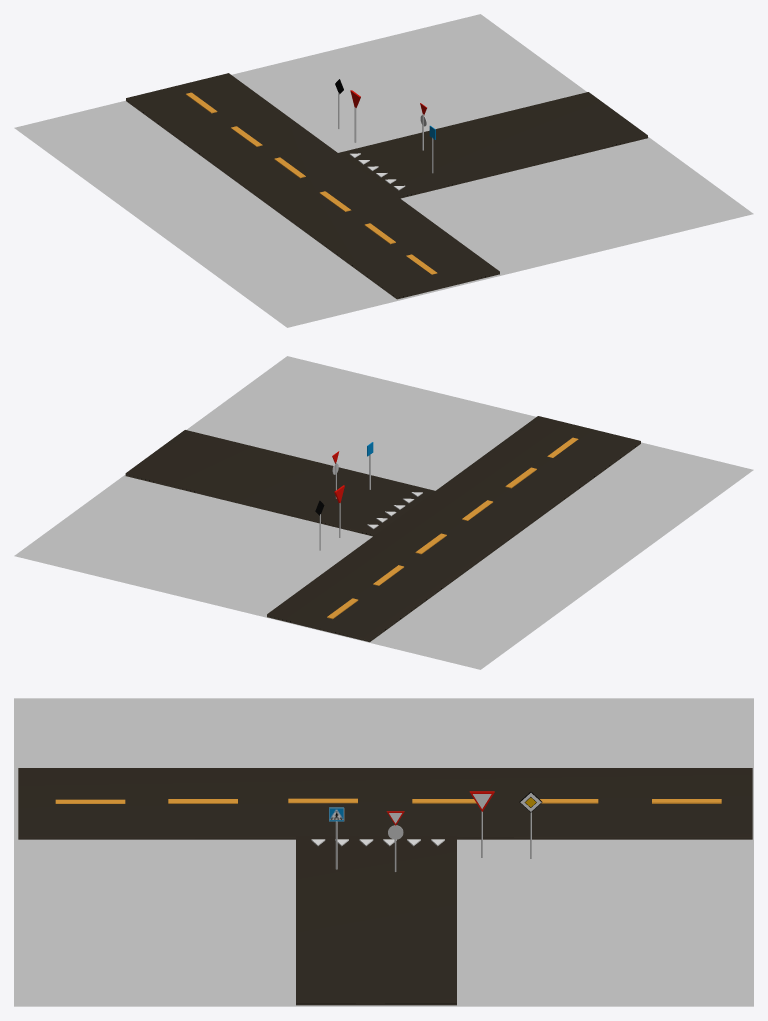
File: road2.fbx
The picture shows the model from 3 angles, top to bottom: view 1: azimuth 30°, elevation 25°; view 2: azimuth 150°, elevation 25°; view 3: azimuth 270°, elevation 25°; orthographic projection. The views are drawn at different scales.
Parts seen in each view (by area): view 1: Plane, Cube.005, Gulestriper; view 2: Plane, Cube.005, Gulestriper; view 3: Plane, Cube.005, Gulestriper.
Part boxes in pixels (box(x1,y1,x2,y2)): Plane: box(14, 14, 753, 327); Cube.005: box(126, 73, 647, 299); Gulestriper: box(185, 92, 437, 274); Plane: box(14, 356, 753, 669); Cube.005: box(125, 416, 640, 642); Gulestriper: box(327, 437, 578, 619); Plane: box(14, 698, 753, 1006); Cube.005: box(18, 768, 752, 1005); Gulestriper: box(55, 798, 721, 803).
Bounding box in the file's own units: 14370 × 1542 × 14575.
